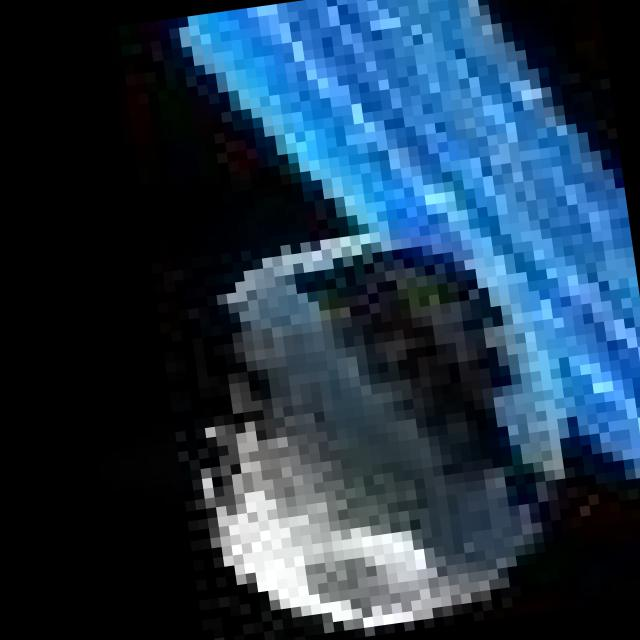Death Star: (151, 206, 588, 640)
